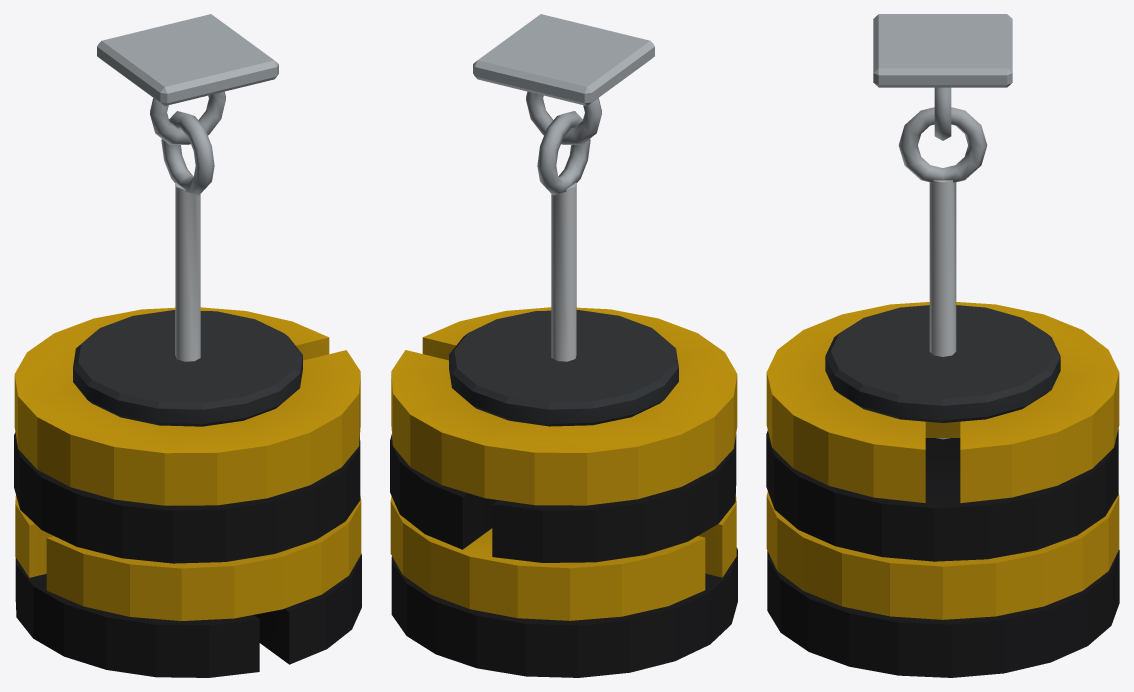
Rendered from jig_weight.glb.
3 views of the same model, side by side, from view 1: azimuth 30°, elevation 25°; view 2: azimuth 150°, elevation 25°; view 3: azimuth 270°, elevation 25° (orthographic).
Visible parts, largest first — view 1: weight_stack, weight_hook; view 2: weight_stack, weight_hook; view 3: weight_stack, weight_hook.
Part boxes in pixels (box(x1,y1,x2,y2)): weight_stack: box(14, 307, 361, 677); weight_hook: box(97, 14, 278, 361); weight_stack: box(390, 307, 737, 677); weight_hook: box(473, 14, 654, 361); weight_stack: box(766, 302, 1119, 677); weight_hook: box(873, 14, 1012, 356).
Size of the model in its own units: 0.066 by 0.123 by 0.066.
